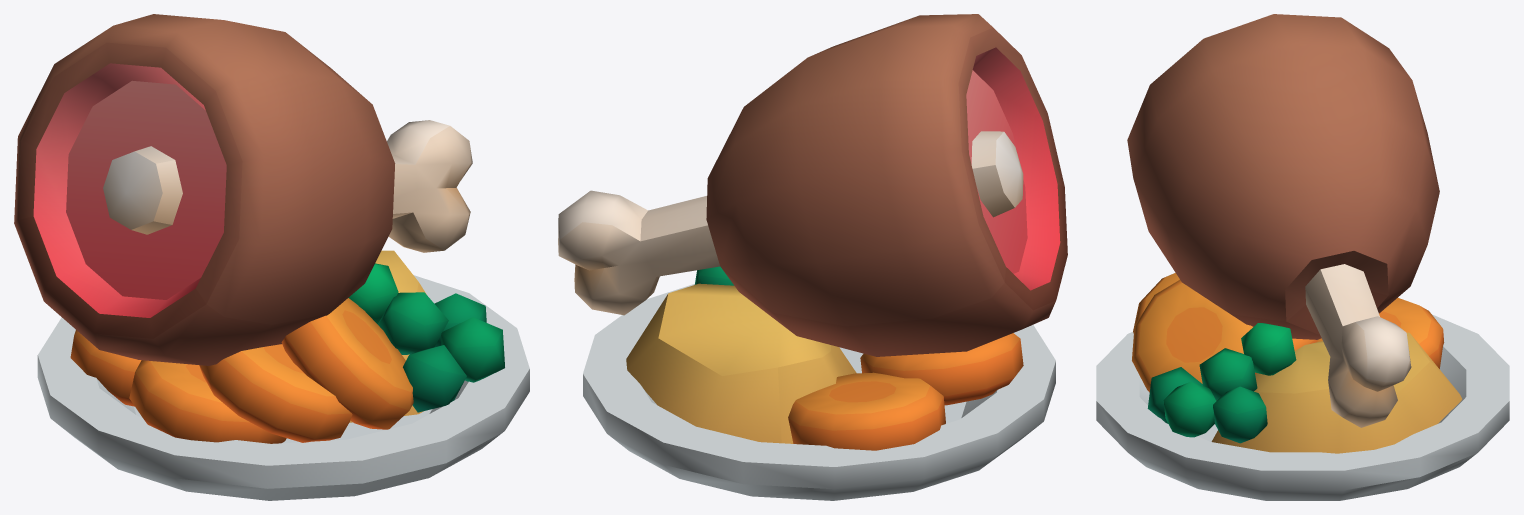
File: dinner.glb
3 renders of one model, left to right at view 1: azimuth 30°, elevation 25°; view 2: azimuth 150°, elevation 25°; view 3: azimuth 270°, elevation 25°, orthographic. The views are drawn at different scales.
Visible parts, largest first — view 1: food_dinner_Cylinder.116; view 2: food_dinner_Cylinder.116; view 3: food_dinner_Cylinder.116.
Part boxes in pixels (left/top/right/bottom): food_dinner_Cylinder.116: left=14, top=14, right=529, bottom=500; food_dinner_Cylinder.116: left=558, top=14, right=1067, bottom=500; food_dinner_Cylinder.116: left=1096, top=14, right=1509, bottom=500.
Bounding box in the file's own units: 1.04 × 0.9078 × 0.95.
Materials: 1 (1 with a texture image).
